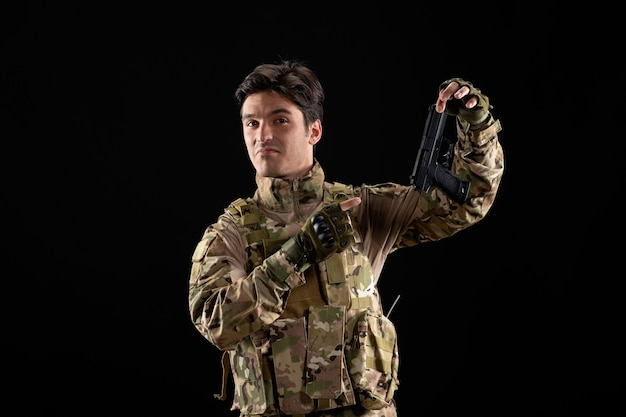gun: (408, 104, 472, 202)
